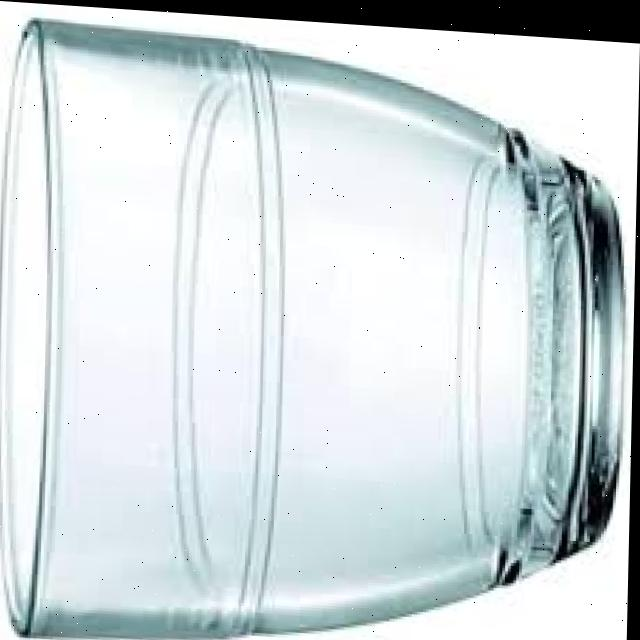Dry: (0, 12, 631, 640)
